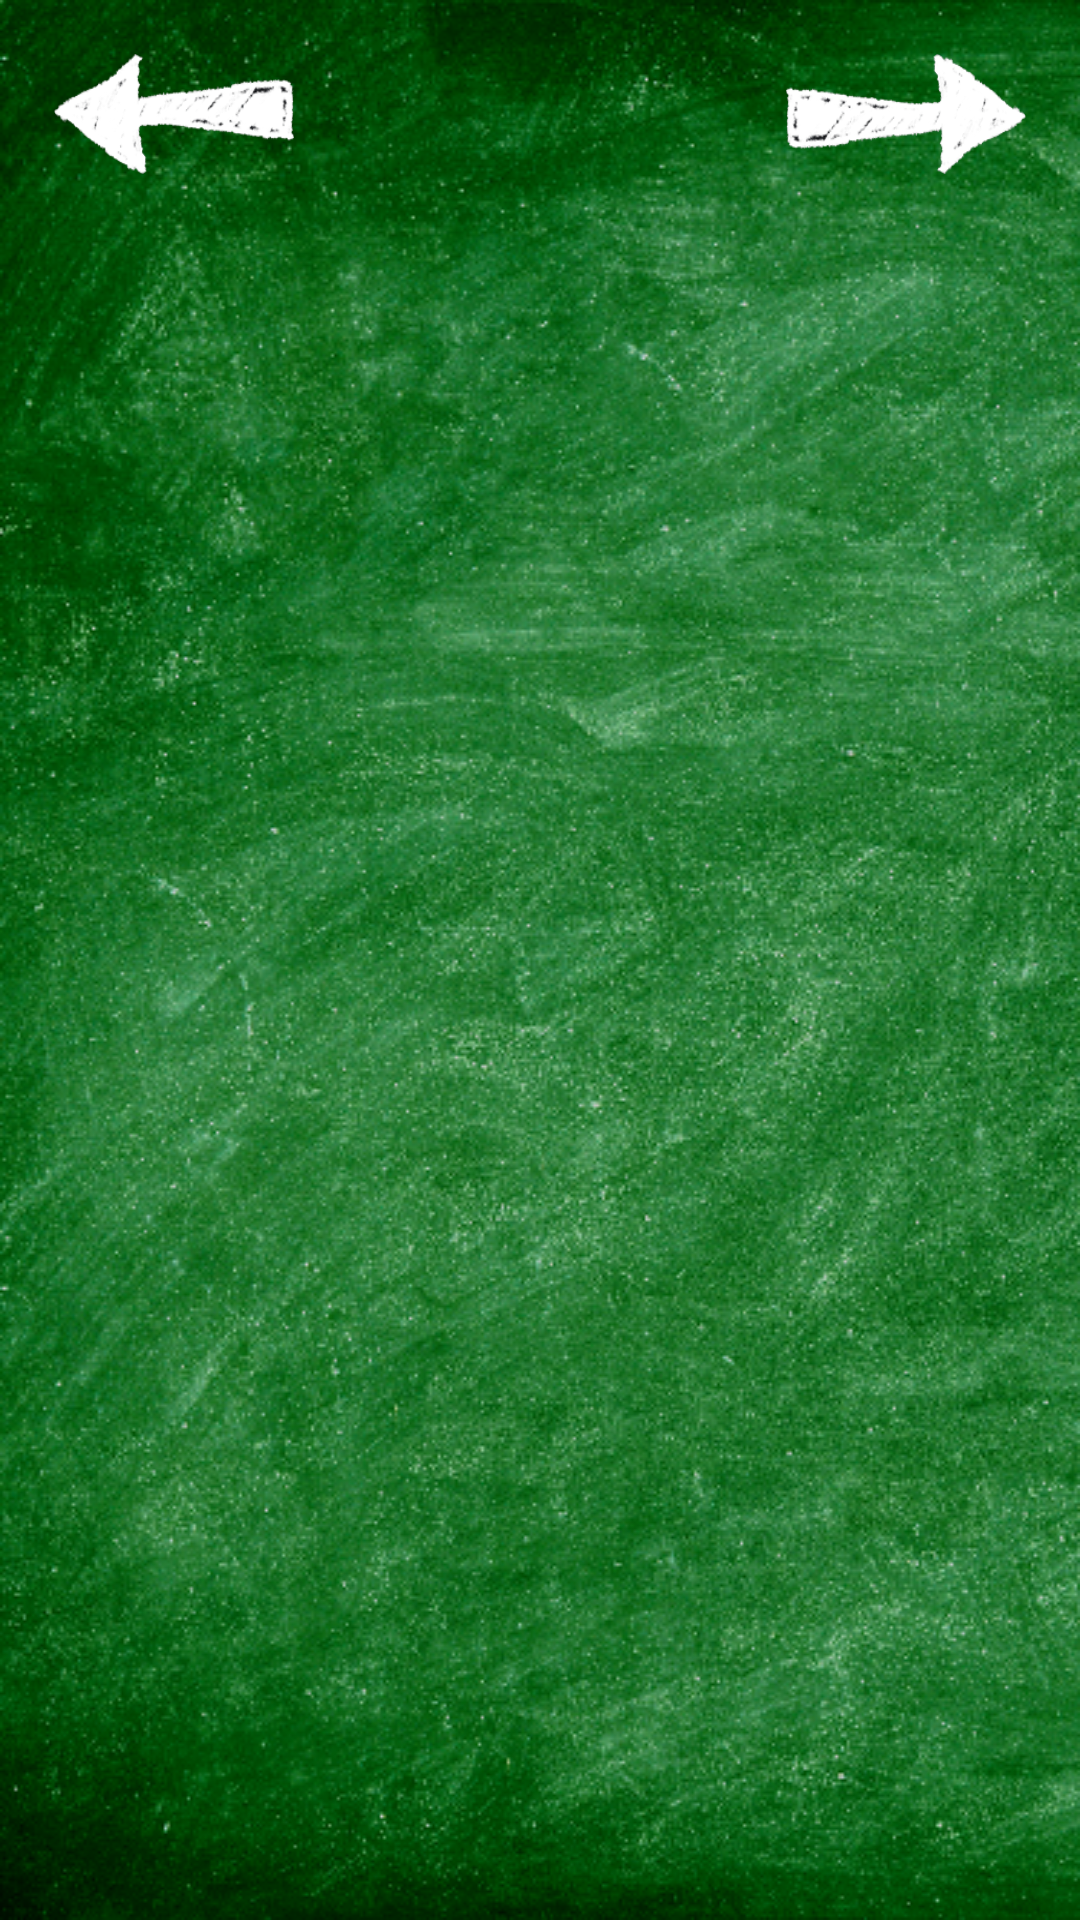

Icon click points for this 1080×1920 phone screenshot, format (x,y):
chalk arrow next: (906,114)
chalk arrow prev: (174,114)
